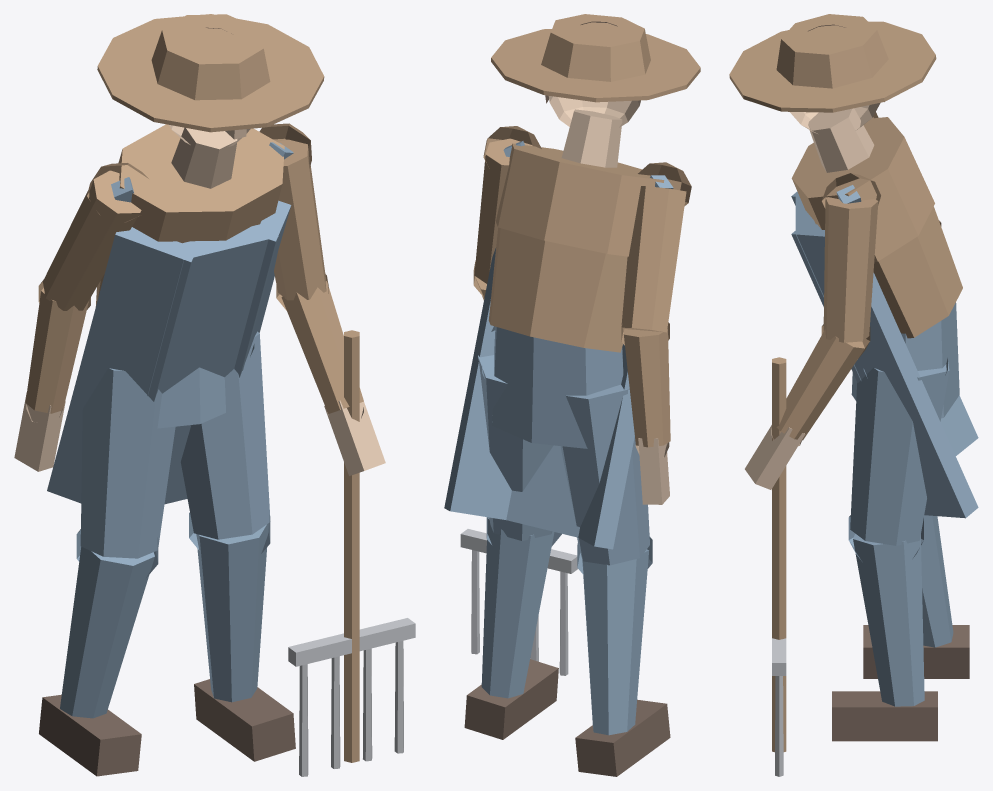
Rendered from low-poly-character-figures-farmer-standing-3d2f2a13__36362.glb.
The picture shows the model from 3 angles, left to right: view 1: azimuth 30°, elevation 25°; view 2: azimuth 150°, elevation 25°; view 3: azimuth 270°, elevation 25°; orthographic projection. The views are drawn at different scales.
Visible parts, largest first — view 1: farmer-standing; view 2: farmer-standing; view 3: farmer-standing.
Boxes of the visible parts, x1=… form: farmer-standing: x1=14, y1=14, x2=415, y2=776; farmer-standing: x1=444, y1=14, x2=700, y2=776; farmer-standing: x1=729, y1=14, x2=978, y2=776.
Bounding box in the file's own units: 0.7669 × 1.77 × 0.5914.
